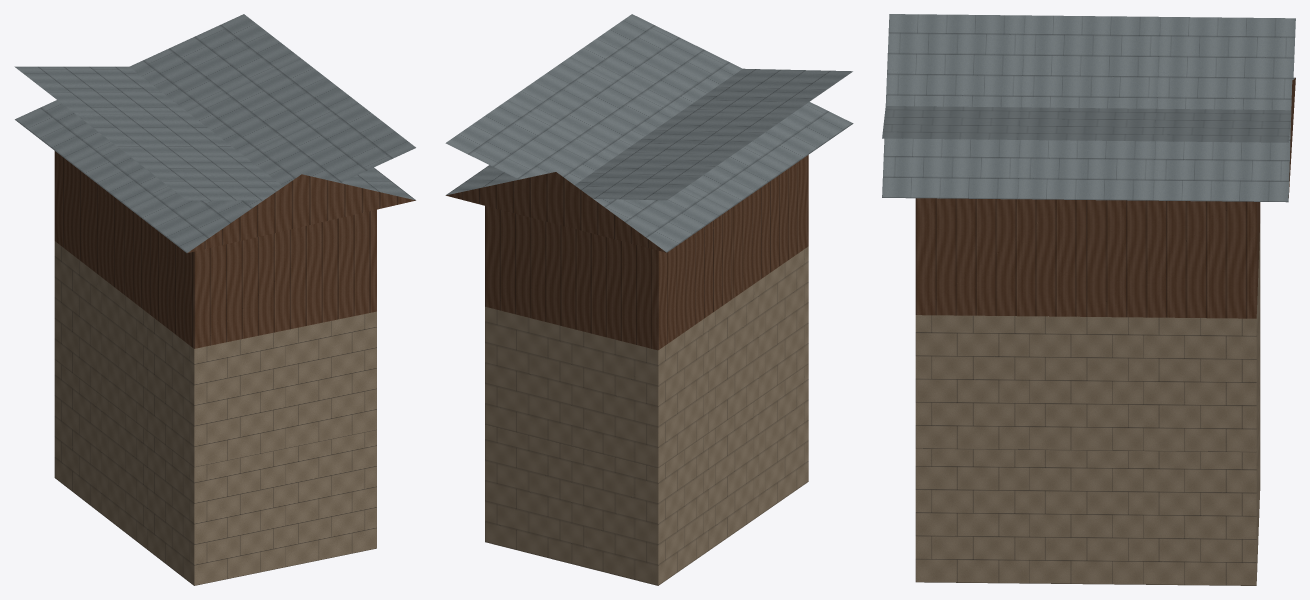
The model's file is bld_c32_-39_448.gltf.
3 renders of one model, left to right at view 1: azimuth 30°, elevation 25°; view 2: azimuth 150°, elevation 25°; view 3: azimuth 270°, elevation 25°, orthographic. The views are drawn at different scales.
Visible parts, largest first — view 1: bld_c32_-39_448; view 2: bld_c32_-39_448; view 3: bld_c32_-39_448.
Part boxes in pixels (x1,y1,x2,y2): bld_c32_-39_448: (14,14,415,585); bld_c32_-39_448: (445,14,853,585); bld_c32_-39_448: (882,14,1295,585).
Size of the model in its own units: 4.65 by 7.7 by 6.31.
4 materials, 4 textured.
